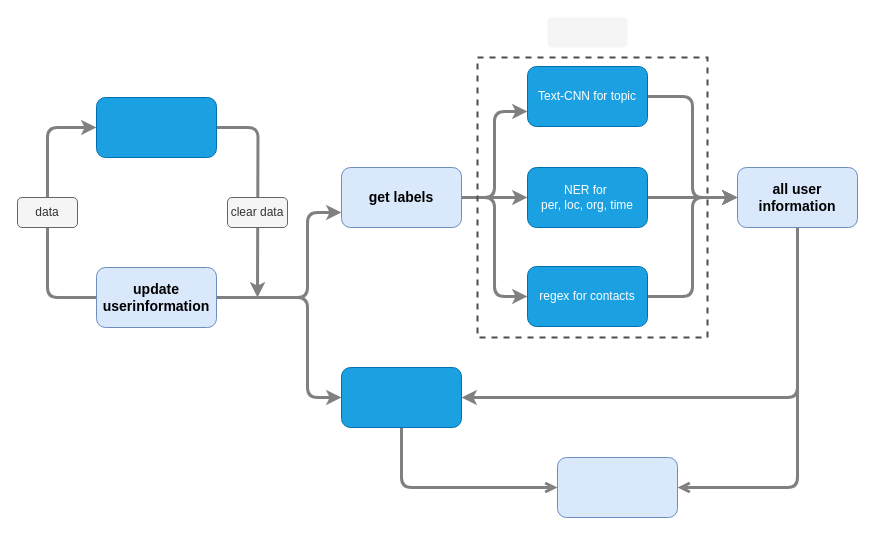
The diagram is 875 pixels wide and 535 high, and some of its shapes have lost their labels. The centre of each missing label's shape, as x and y in pixels:
Kmeans: the point at 401,397
NLP: the point at 587,32
prerocessing: the point at 156,127
update usertable: the point at 617,487
